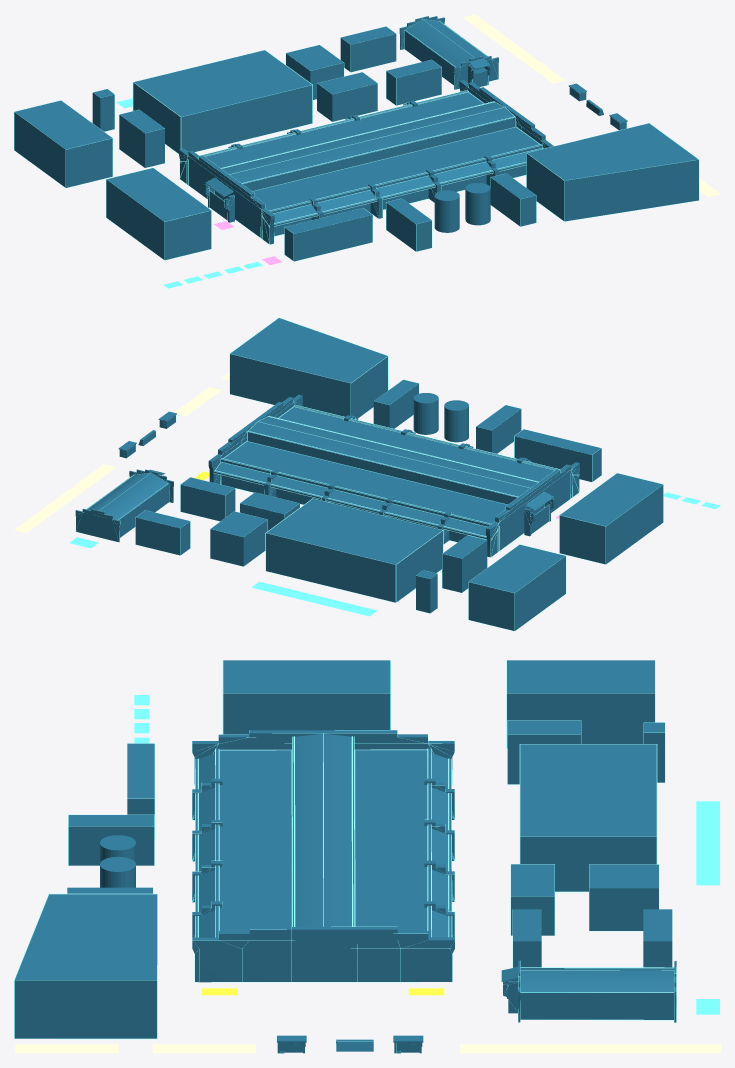
File: runyang3-1.glb
The picture shows the model from 3 angles, top to bottom: view 1: azimuth 30°, elevation 25°; view 2: azimuth 150°, elevation 25°; view 3: azimuth 270°, elevation 25°; orthographic projection. The views are drawn at different scales.
Visible parts, largest first — view 1: v型滤池, right-6, left-001, bottom-1, right-9, v型滤池.001, right-1, left-006, right-4, right-7, right-3, right-2 (+9 smaller); view 2: v型滤池, right-6, left-001, bottom-1, right-9, v型滤池.001, right-1, left-006, right-5, right-3, right-7, right-2 (+9 smaller); view 3: v型滤池, left-001, right-6, bottom-1, right-9, right-1, v型滤池.001, right-5, left-005, 平面.001, right-4, right-7 (+12 smaller).
Boxes of the visible parts, bbox=[...] form: v型滤池: bbox=[179, 80, 553, 244]; right-6: bbox=[133, 50, 312, 153]; left-001: bbox=[526, 123, 698, 221]; bottom-1: bbox=[106, 168, 211, 259]; right-9: bbox=[14, 100, 112, 187]; v型滤池.001: bbox=[179, 86, 545, 244]; right-1: bbox=[399, 16, 498, 89]; left-006: bbox=[284, 208, 372, 261]; right-4: bbox=[317, 72, 377, 121]; right-7: bbox=[119, 110, 164, 167]; right-3: bbox=[340, 26, 396, 72]; right-2: bbox=[386, 60, 441, 105]; v型滤池: bbox=[208, 395, 579, 557]; right-6: bbox=[266, 498, 442, 602]; left-001: bbox=[230, 318, 387, 418]; bottom-1: bbox=[559, 473, 663, 564]; right-9: bbox=[468, 544, 565, 630]; v型滤池.001: bbox=[212, 399, 579, 557]; right-1: bbox=[75, 469, 173, 542]; left-006: bbox=[514, 429, 601, 481]; right-5: bbox=[210, 511, 267, 566]; right-3: bbox=[135, 510, 190, 555]; right-7: bbox=[442, 535, 487, 592]; right-2: bbox=[180, 477, 235, 521]; v型滤池: bbox=[192, 730, 454, 982]; left-001: bbox=[14, 894, 157, 1038]; right-6: bbox=[520, 744, 656, 891]; bottom-1: bbox=[223, 660, 390, 734]; right-9: bbox=[507, 660, 654, 747]; right-1: bbox=[501, 960, 676, 1022]; v型滤池.001: bbox=[192, 730, 454, 982]; right-5: bbox=[589, 864, 658, 930]; left-005: bbox=[68, 815, 154, 865]; 平面.001: bbox=[460, 1044, 720, 1053]; right-4: bbox=[511, 864, 554, 935]; right-7: bbox=[507, 720, 580, 784].
Size of what is drawn, in the model's own units: 373 by 30.39 by 311.
